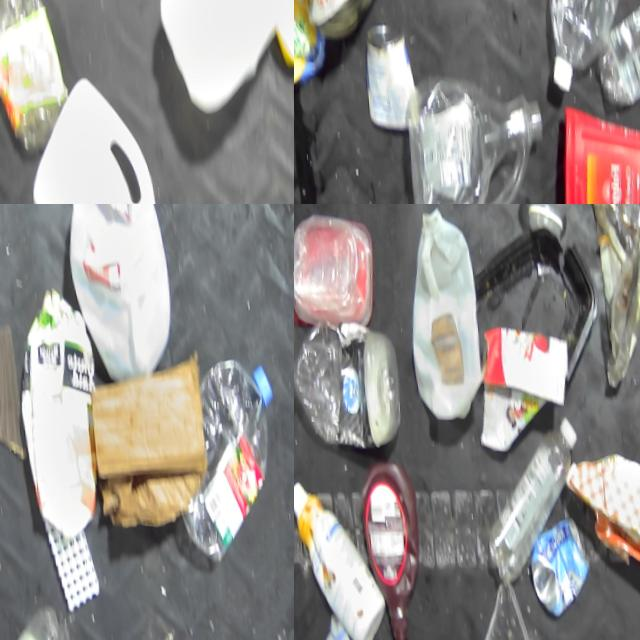can: (352, 21, 415, 148), (523, 512, 589, 609)
milk_jug: (56, 204, 175, 394), (17, 76, 165, 204), (399, 204, 481, 414), (150, 0, 294, 104), (304, 616, 379, 640)
non_white_jug: (352, 458, 419, 632), (538, 97, 640, 204)
plastic_bottle: (471, 407, 586, 591), (185, 358, 286, 566), (398, 74, 548, 204), (529, 0, 640, 90), (584, 0, 640, 124), (0, 603, 83, 640)
